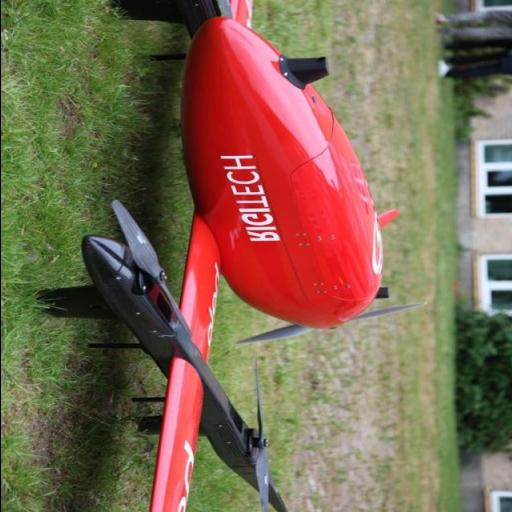uav: (40, 0, 436, 507)
